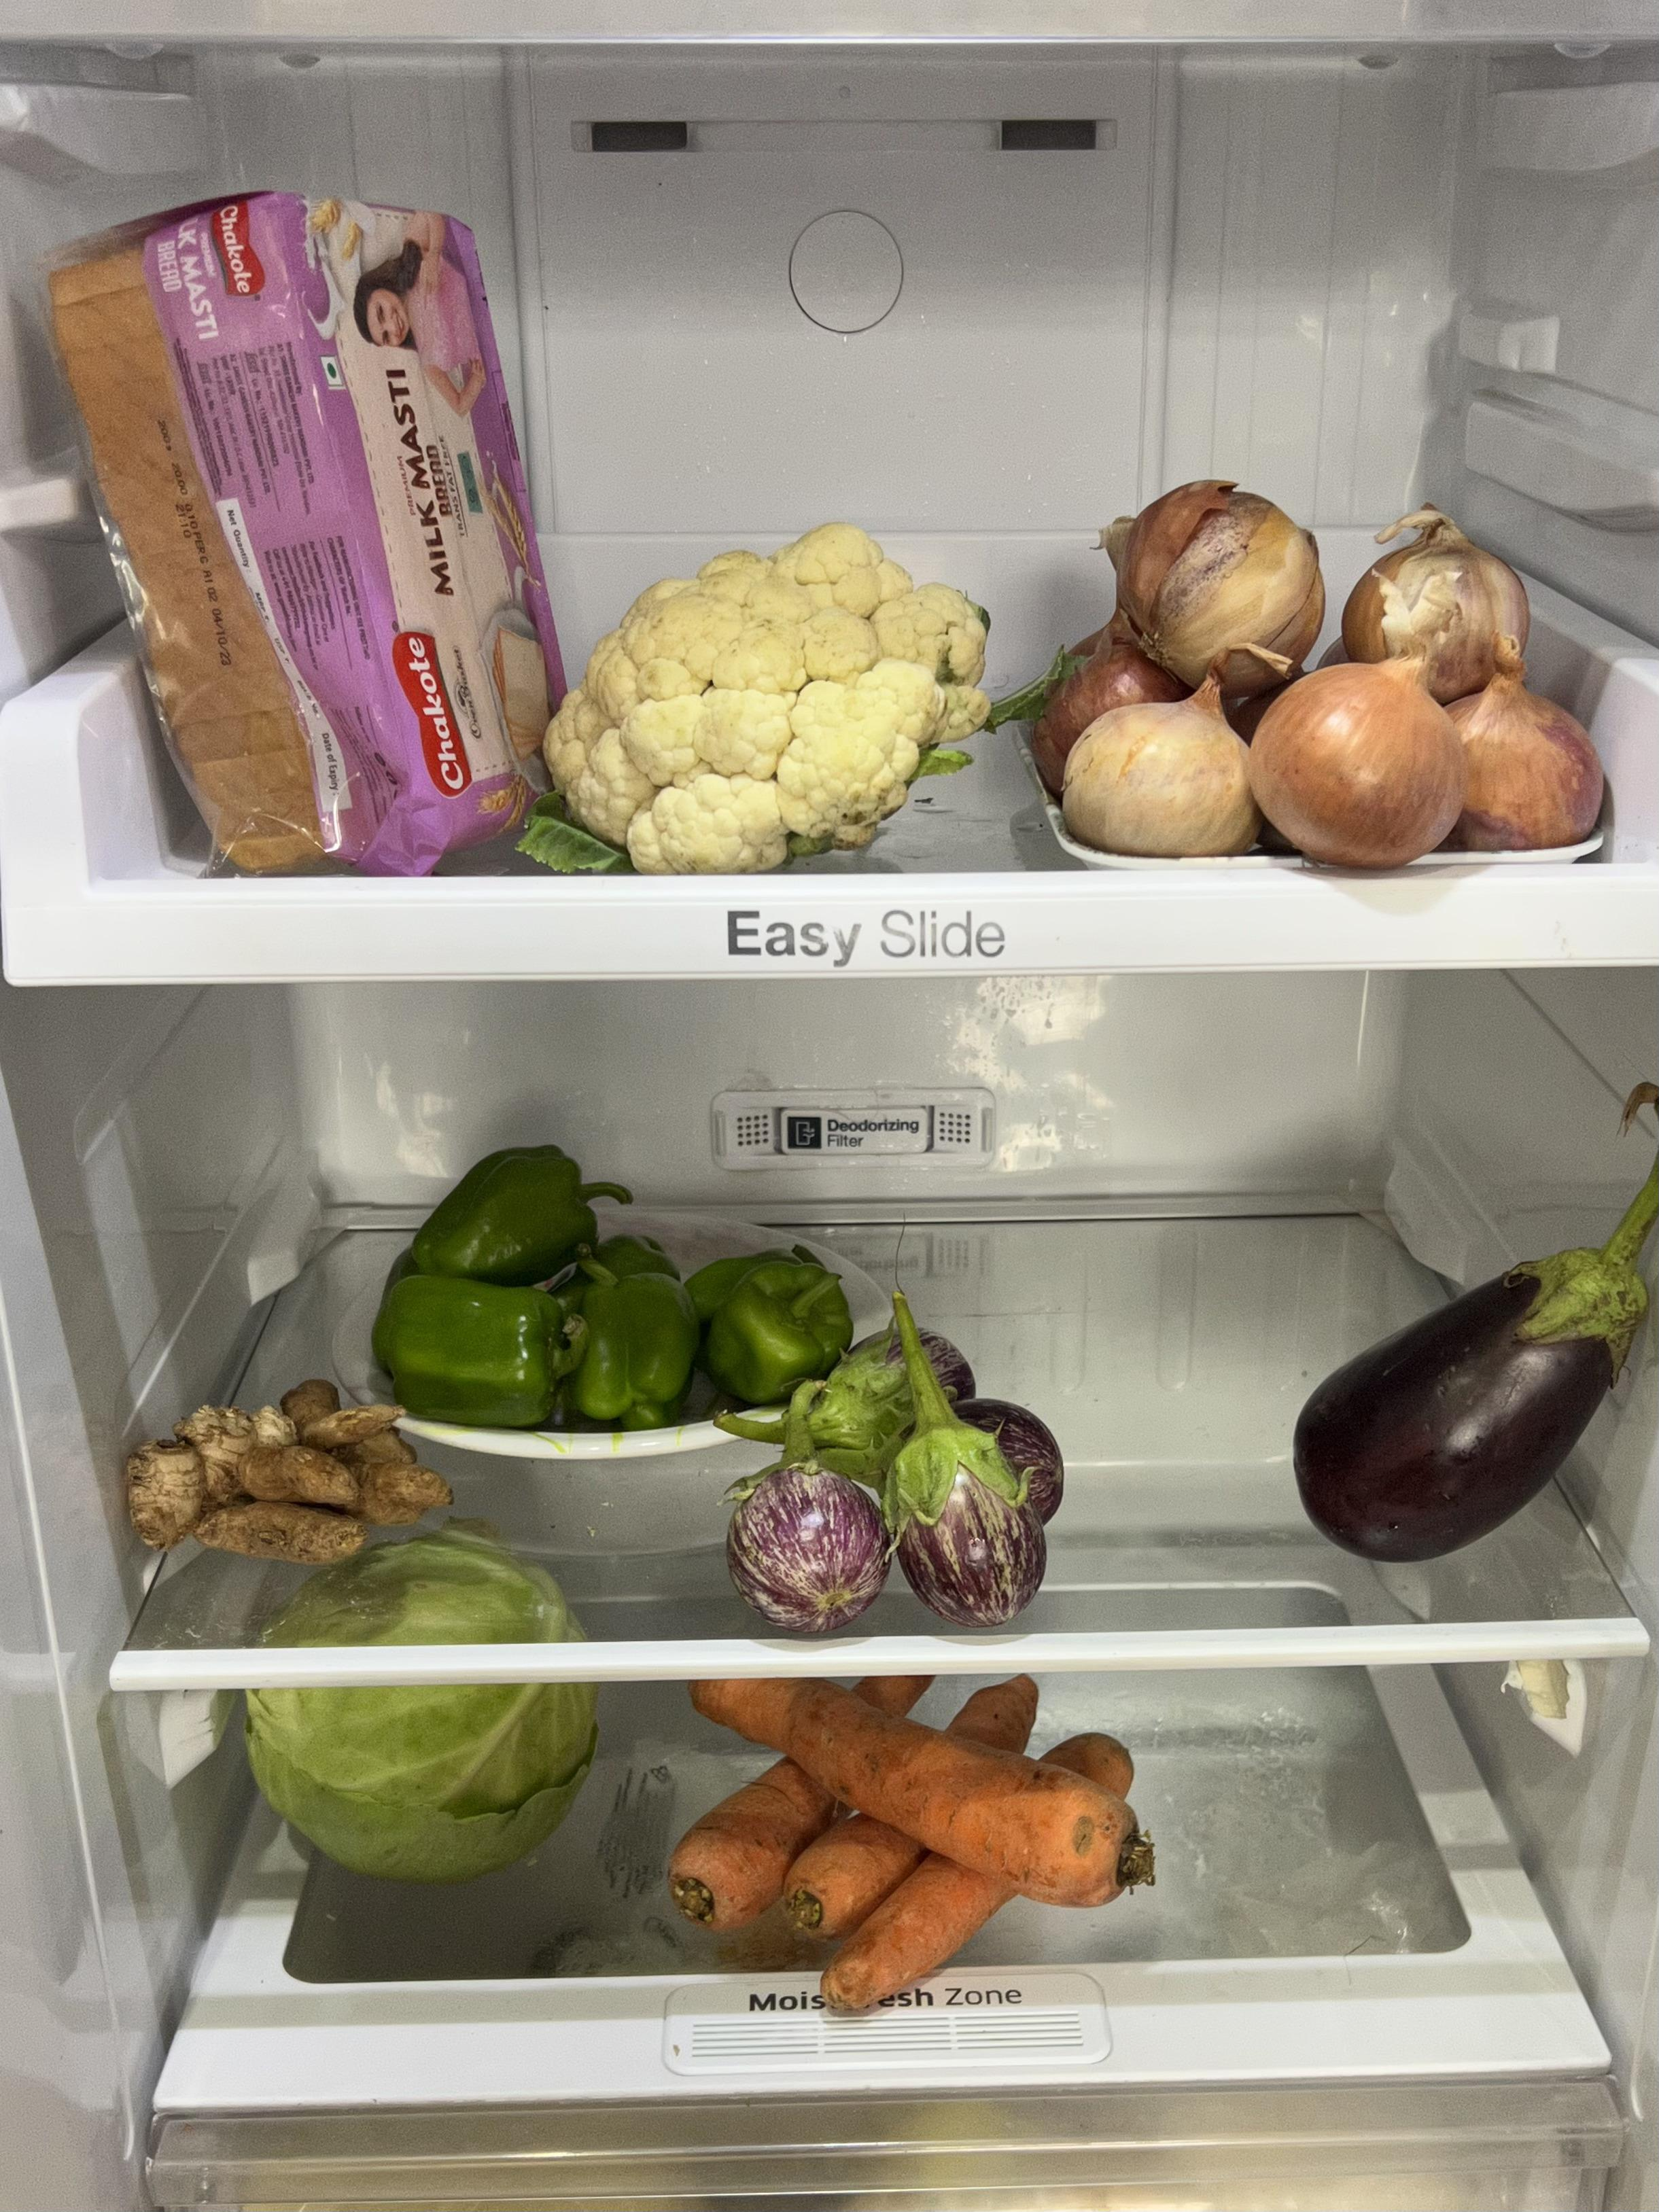bread: (32, 188, 548, 871)
bringal: (1287, 1234, 1653, 1569), (734, 1328, 1067, 1622)
cabbage: (237, 1665, 599, 1882)
capsicum: (369, 1140, 847, 1415)
carrots: (665, 1679, 1153, 2016)
cauliflower: (571, 505, 986, 876)
ginger: (126, 1373, 455, 1587)
onion: (1043, 484, 1628, 868)
